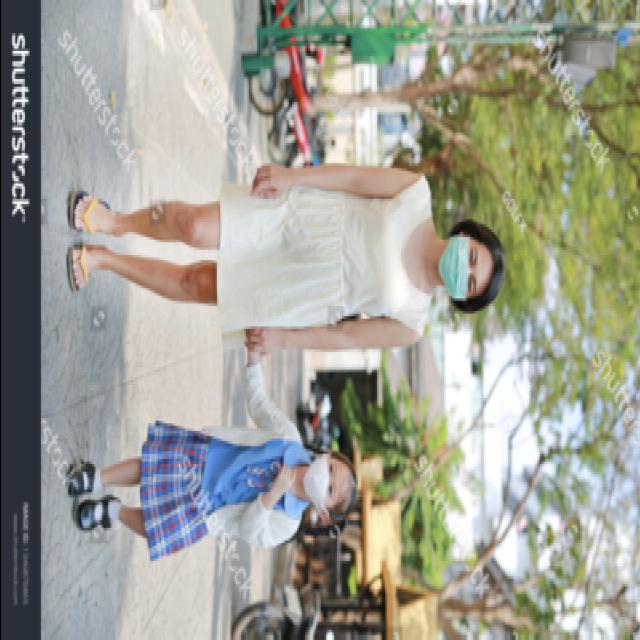with_mask: (440, 234, 478, 298), (304, 452, 338, 508)
